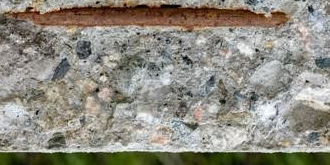Exposed reinforcement: (3, 5, 290, 28)
Spalling: (1, 1, 330, 152)
